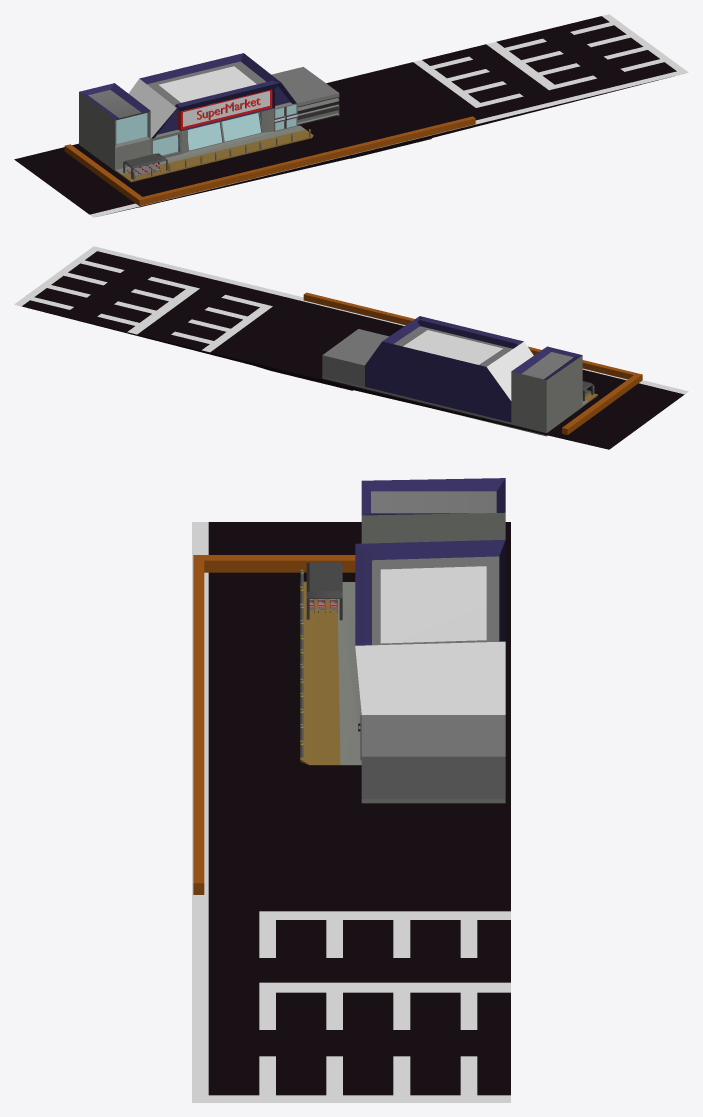
Rendered from supermarket.fbx.
The picture shows the model from 3 angles, top to bottom: view 1: azimuth 30°, elevation 25°; view 2: azimuth 150°, elevation 25°; view 3: azimuth 270°, elevation 25°; orthographic projection. The views are drawn at different scales.
Visible parts, largest first — view 1: Cube.015; view 2: Cube.015; view 3: Cube.015.
Boxes of the visible parts, left/top/right/bottom form: Cube.015: left=14, top=14, right=688, bottom=217; Cube.015: left=14, top=246, right=688, bottom=449; Cube.015: left=192, top=478, right=510, bottom=1102.
Bounding box in the file's own units: 17500 × 1618 × 4060.
